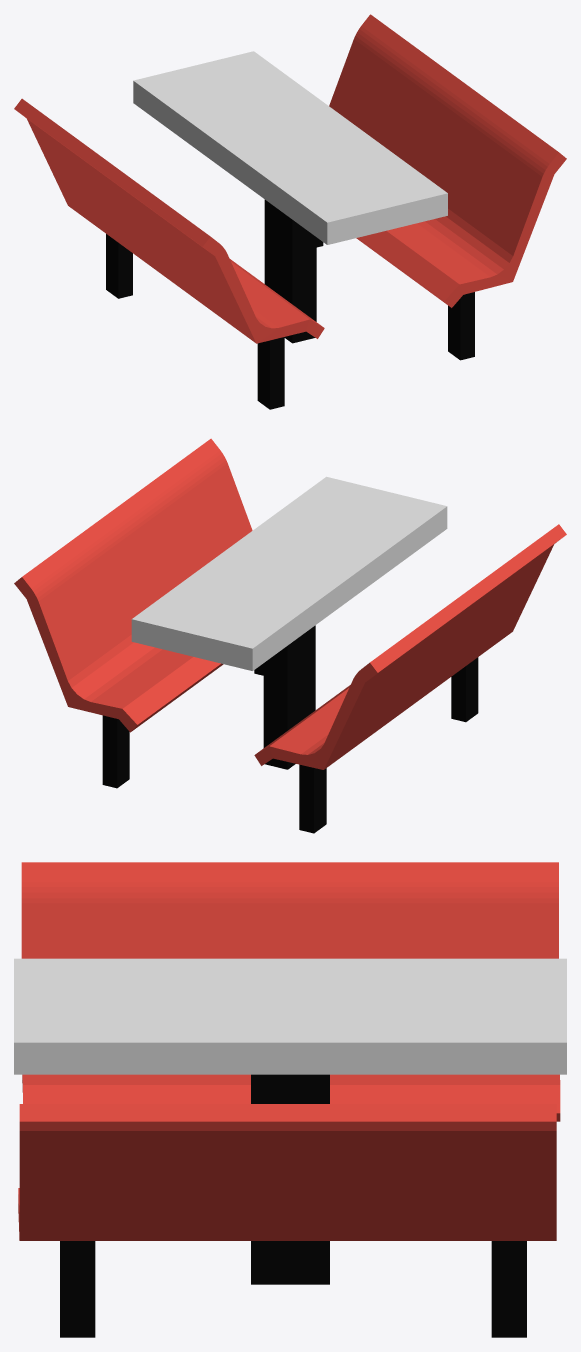
The model's file is mese (1).glb.
3 renders of one model, top to bottom at view 1: azimuth 30°, elevation 25°; view 2: azimuth 150°, elevation 25°; view 3: azimuth 270°, elevation 25°, orthographic. The views are drawn at different scales.
Visible parts, largest first — view 1: Cube.009; view 2: Cube.009; view 3: Cube.009.
Part boxes in pixels (box(x1,y1,x2,y2)): Cube.009: box(14, 14, 566, 409); Cube.009: box(14, 438, 566, 833); Cube.009: box(14, 862, 566, 1337).
Bounding box in the file's own units: 33.86 × 18.28 × 31.31.
